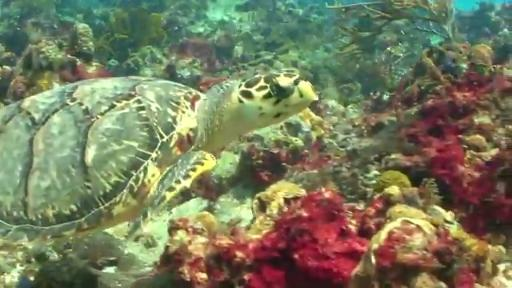Fish: (0, 71, 317, 240)
